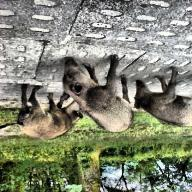boar: (54, 48, 145, 137), (133, 54, 192, 134), (10, 97, 86, 148)
